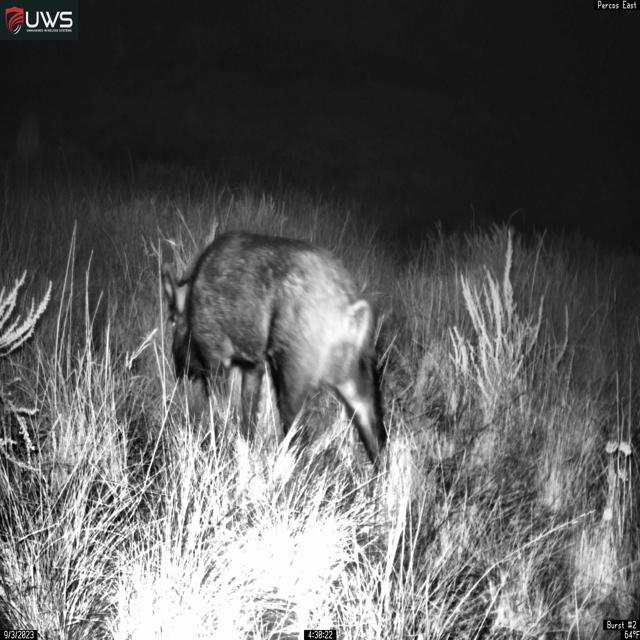pig: (161, 229, 389, 483)
